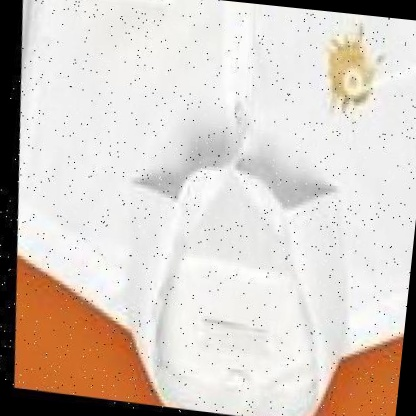coffee: (325, 41, 377, 106)
